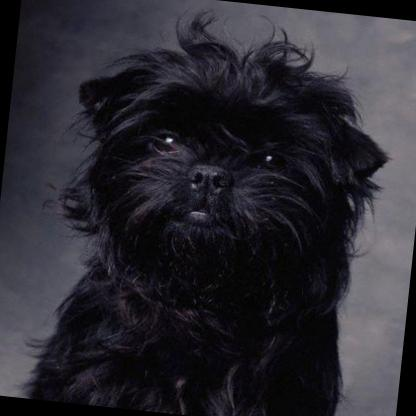affenpinscher: (15, 13, 398, 416)
